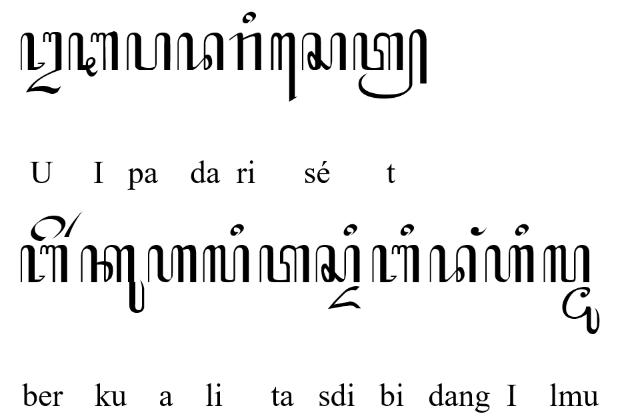-t: (352, 29, 428, 100)
I: (68, 31, 119, 77)
U: (20, 31, 62, 94)
_d: (327, 286, 361, 310)
_mu: (562, 286, 600, 336)
_r1: (64, 211, 82, 238)
b: (19, 244, 69, 284), (372, 244, 420, 284)
d: (176, 30, 224, 72), (429, 244, 476, 284)
e: (30, 214, 66, 242)
e1: (270, 32, 296, 102)
h: (484, 244, 536, 284), (148, 244, 196, 284)
i: (228, 223, 244, 237), (242, 11, 256, 25), (400, 223, 414, 237), (342, 224, 358, 236), (515, 224, 529, 236)
ku: (80, 246, 144, 314)
l: (202, 244, 250, 284), (542, 244, 590, 284)
ng: (470, 226, 488, 236)
p: (126, 31, 170, 70)
r: (230, 31, 262, 70)
s: (314, 244, 362, 284), (301, 32, 347, 70)
t: (259, 244, 311, 284)
